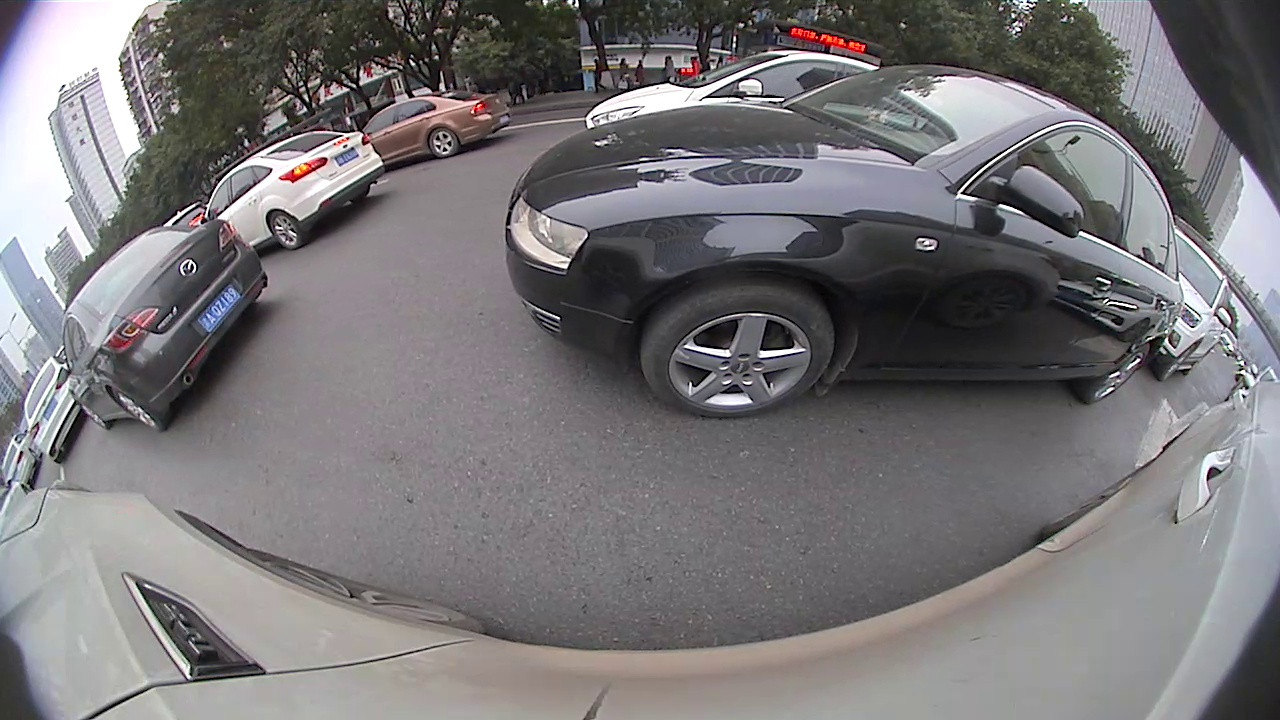car: (502, 59, 1180, 418), (59, 224, 272, 431), (584, 50, 890, 141), (200, 126, 386, 253), (1151, 225, 1231, 381), (359, 90, 513, 164), (24, 352, 90, 465), (0, 433, 39, 490)
front: (638, 284, 835, 420), (1159, 342, 1198, 384), (73, 398, 111, 431)
rear: (1084, 343, 1150, 406), (112, 387, 166, 433), (269, 210, 304, 251), (428, 127, 459, 159)
